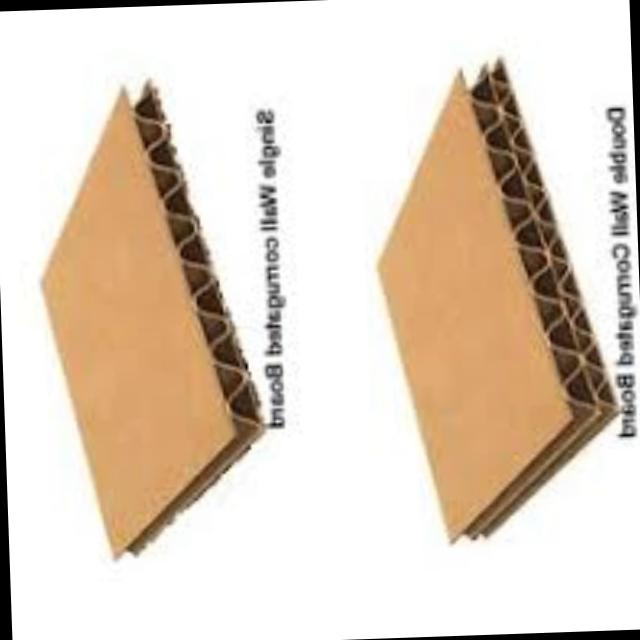cardboard paper: (373, 63, 609, 535), (39, 84, 257, 552)
